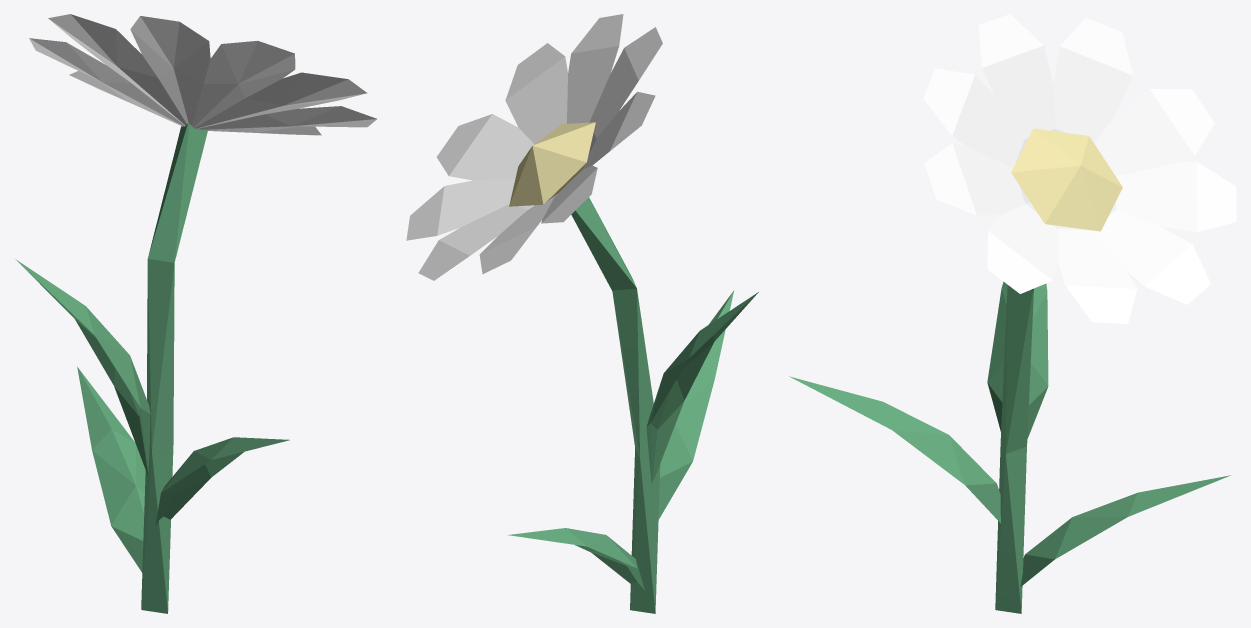
File: Hilly_Prop_Flower_Daisy.glb
The picture shows the model from 3 angles, left to right: view 1: azimuth 30°, elevation 25°; view 2: azimuth 150°, elevation 25°; view 3: azimuth 270°, elevation 25°; orthographic projection. The views are drawn at different scales.
Visible parts, largest first — view 1: Hilly_Prop_Flower_Daisy; view 2: Hilly_Prop_Flower_Daisy; view 3: Hilly_Prop_Flower_Daisy.
Boxes of the visible parts, left/top/right/bottom form: Hilly_Prop_Flower_Daisy: left=15, top=14, right=376, bottom=613; Hilly_Prop_Flower_Daisy: left=406, top=14, right=758, bottom=613; Hilly_Prop_Flower_Daisy: left=789, top=14, right=1236, bottom=613.
Bounding box in the file's own units: 0.3185 × 0.5257 × 0.3644.
